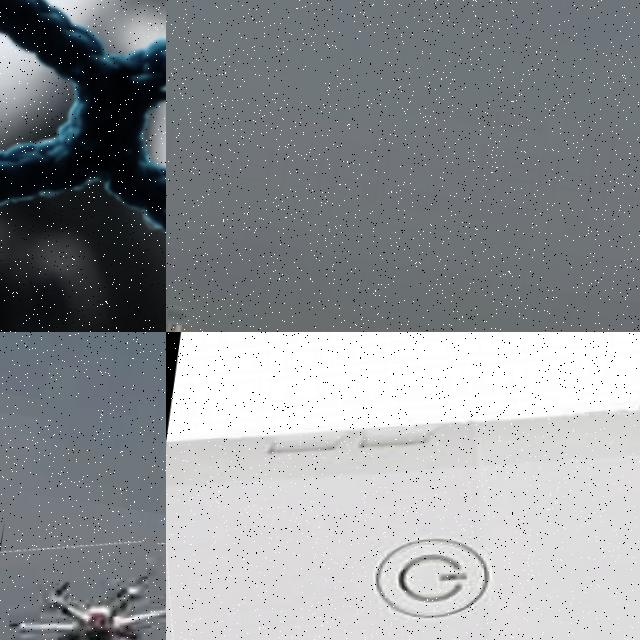drone: (166, 332, 640, 640), (0, 0, 166, 332), (0, 520, 166, 640)
